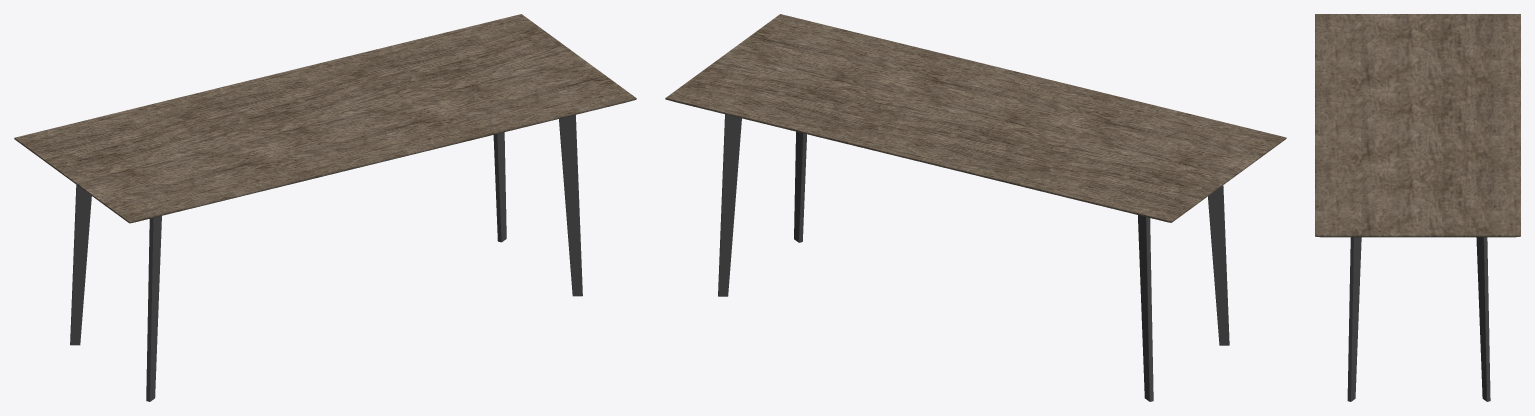
Rendered from table.glb.
3 views of the same model, side by side, from view 1: azimuth 30°, elevation 25°; view 2: azimuth 150°, elevation 25°; view 3: azimuth 270°, elevation 25° (orthographic). The views are drawn at different scales.
Visible parts, largest first — view 1: table; view 2: table; view 3: table.
Boxes of the visible parts, x1,y1,x2,y2 form: table: (14,14,636,401); table: (665,14,1286,401); table: (1315,14,1520,401).
Size of the model in its own units: 1.73 by 0.6622 by 0.6805.
1 material, 1 textured.
